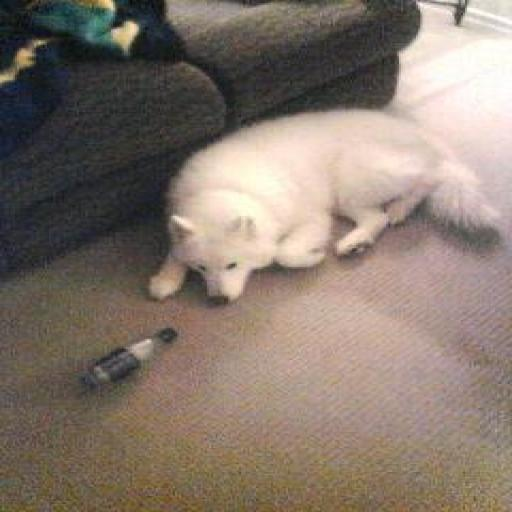dog_face: (166, 212, 264, 311)
